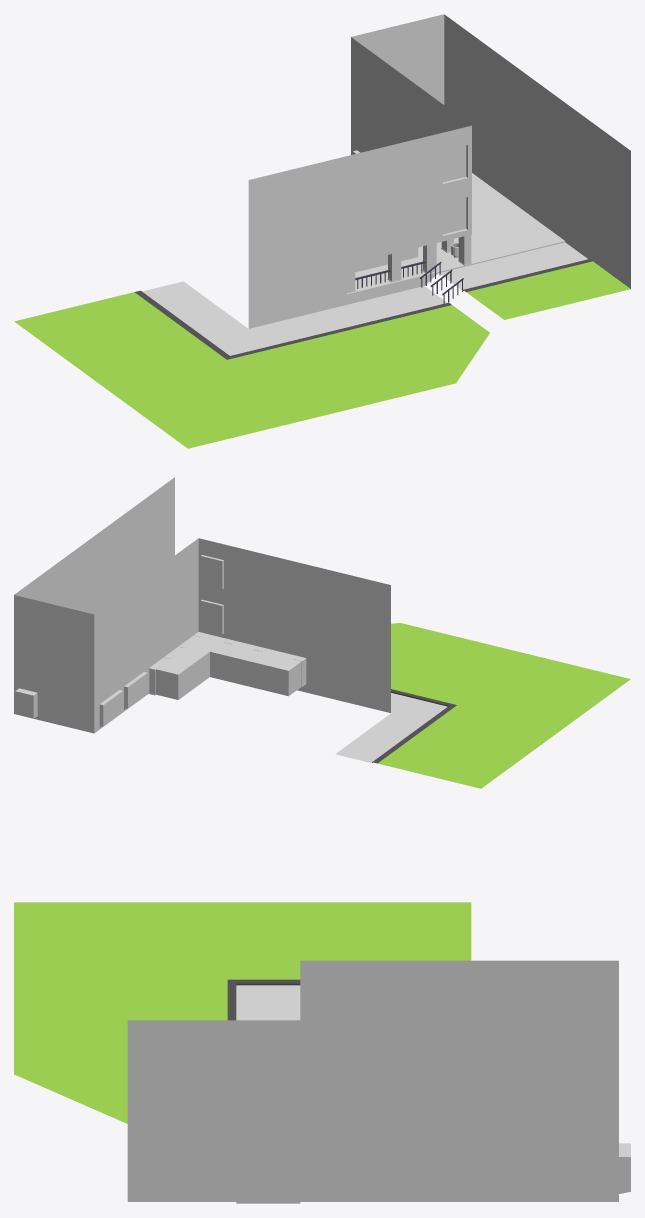
File: ucm.dae
3 renders of one model, top to bottom at view 1: azimuth 30°, elevation 25°; view 2: azimuth 150°, elevation 25°; view 3: azimuth 270°, elevation 25°, orthographic. The views are drawn at different scales.
Visible parts, largest first — view 1: Plane; view 2: Plane; view 3: Plane.
Part boxes in pixels (x1,y1,x2,y2): Plane: (14,14,630,448); Plane: (14,477,630,788); Plane: (14,902,630,1203).
Bounding box in the file's own units: 69.09 × 57.75 × 20.45.
